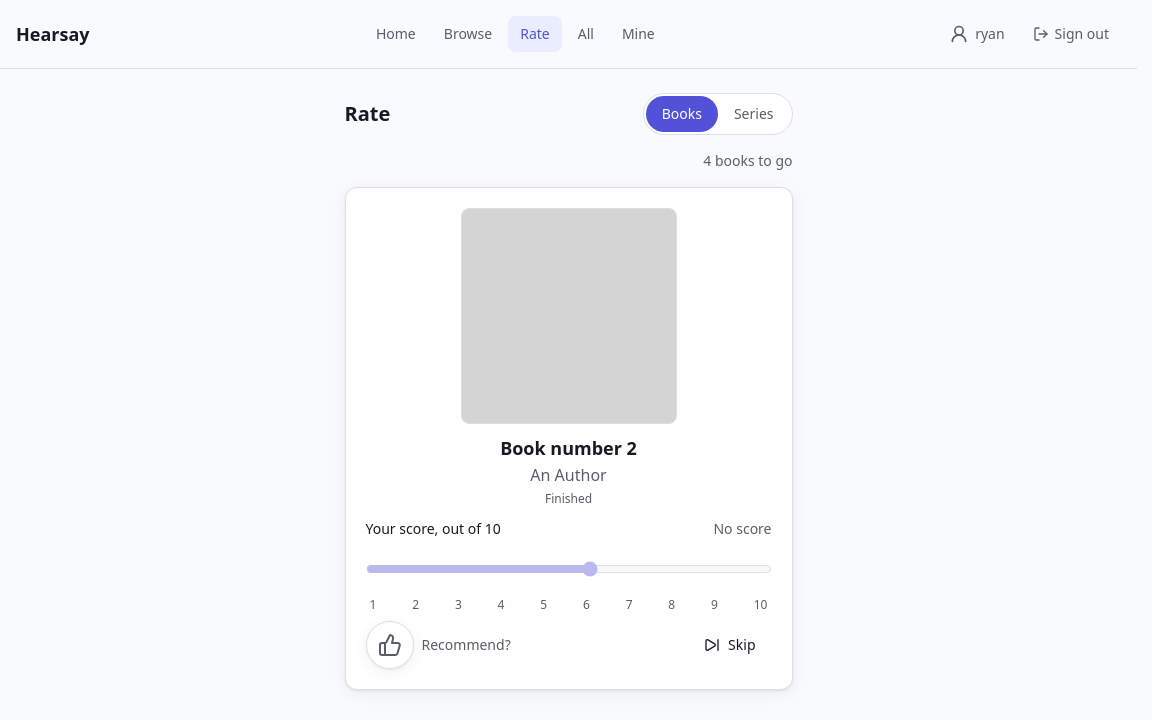
Scenario: the Rate tab › puts every finished book before the ones still being listened to
Expected: the element "Book number 2" is shown, [344,187,792,690]
Click the button "Skip" at (730, 645), box [688,623,772,667]
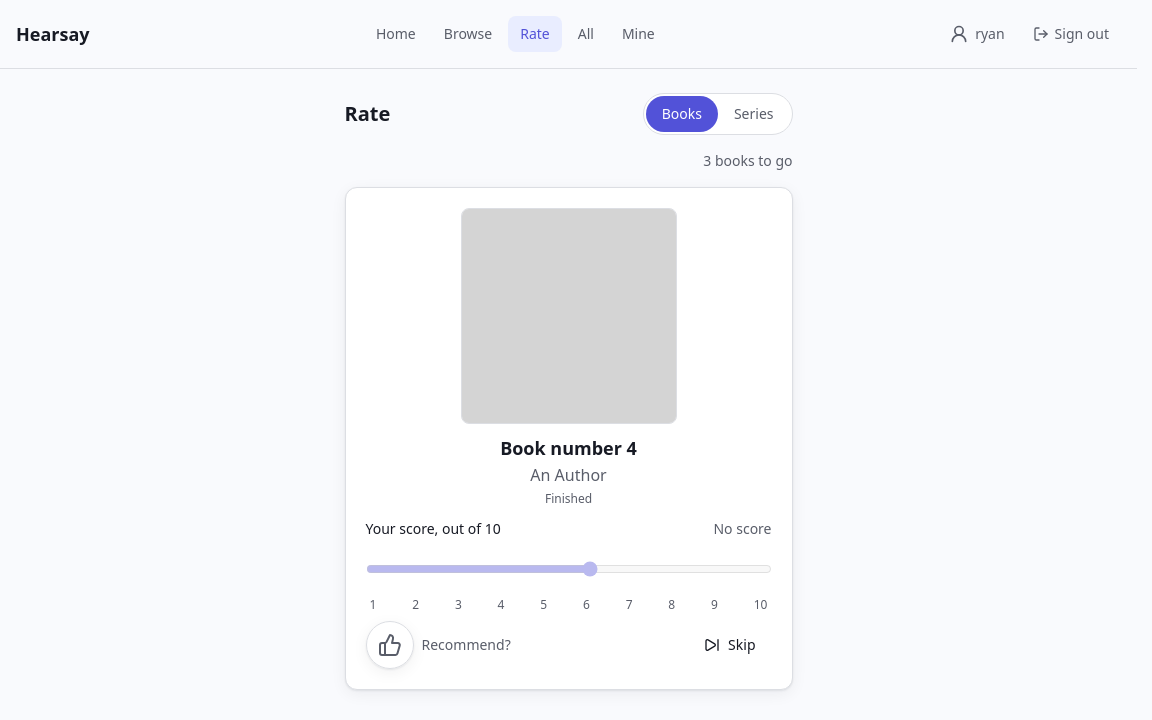
Result: the element "Book number 4" is shown at [344,187,792,690]
Click the button "Skip" at (730, 645), box [688,623,772,667]
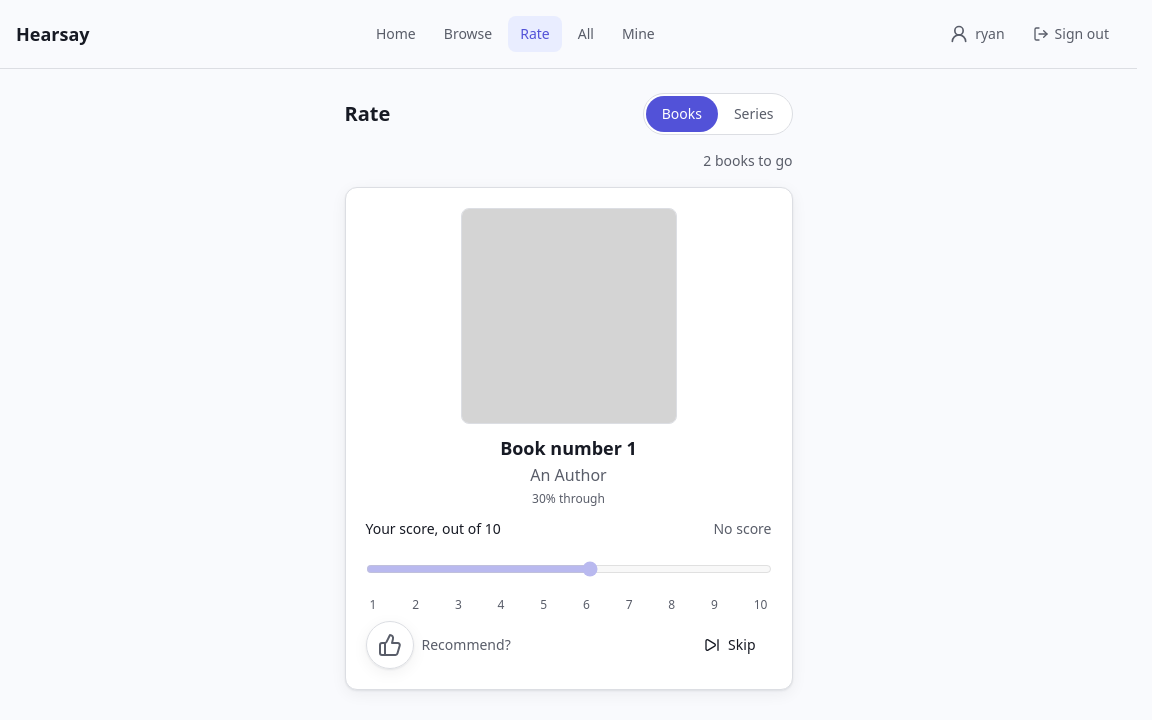
Result: the element "Book number 1" is shown at [344,187,792,690]
Click the button "Skip" at (730, 645), box [688,623,772,667]
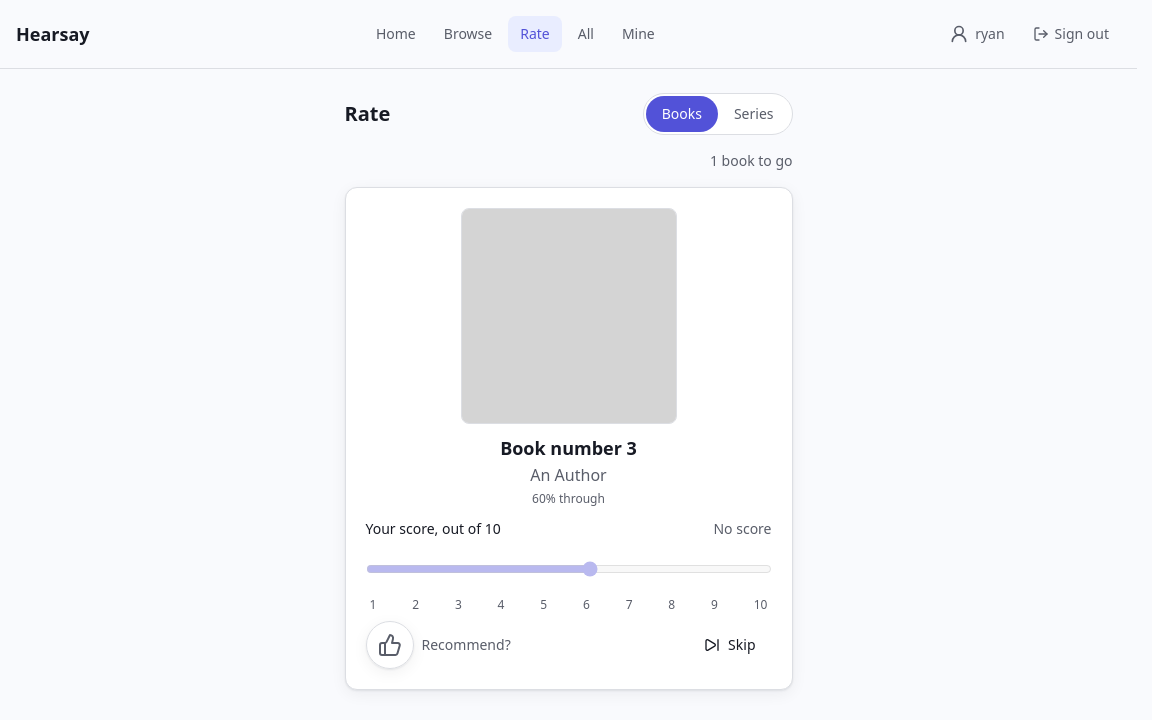
Result: the element "Book number 3" is shown at [344,187,792,690]
